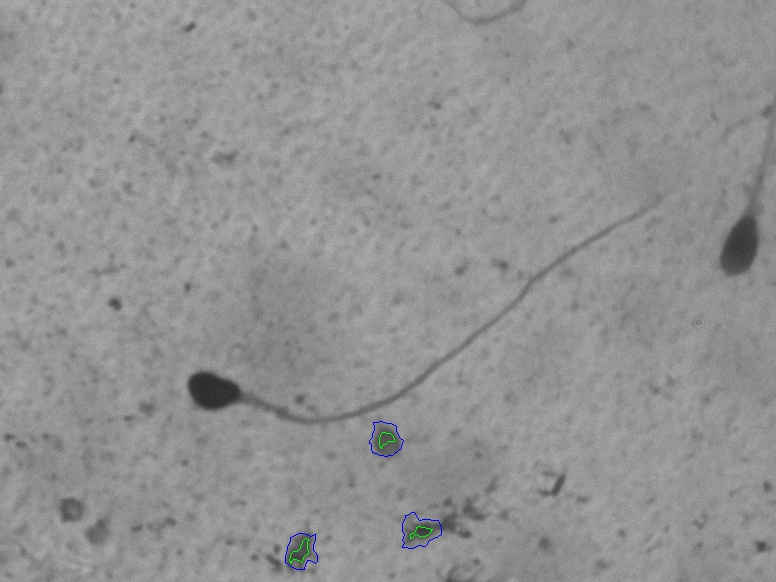Abnormal: (137, 208, 504, 446)
